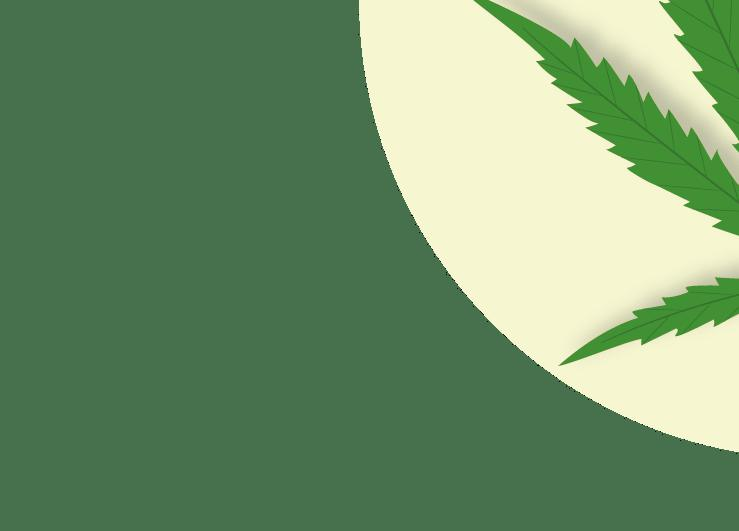cannabis: (460, 0, 738, 492)
